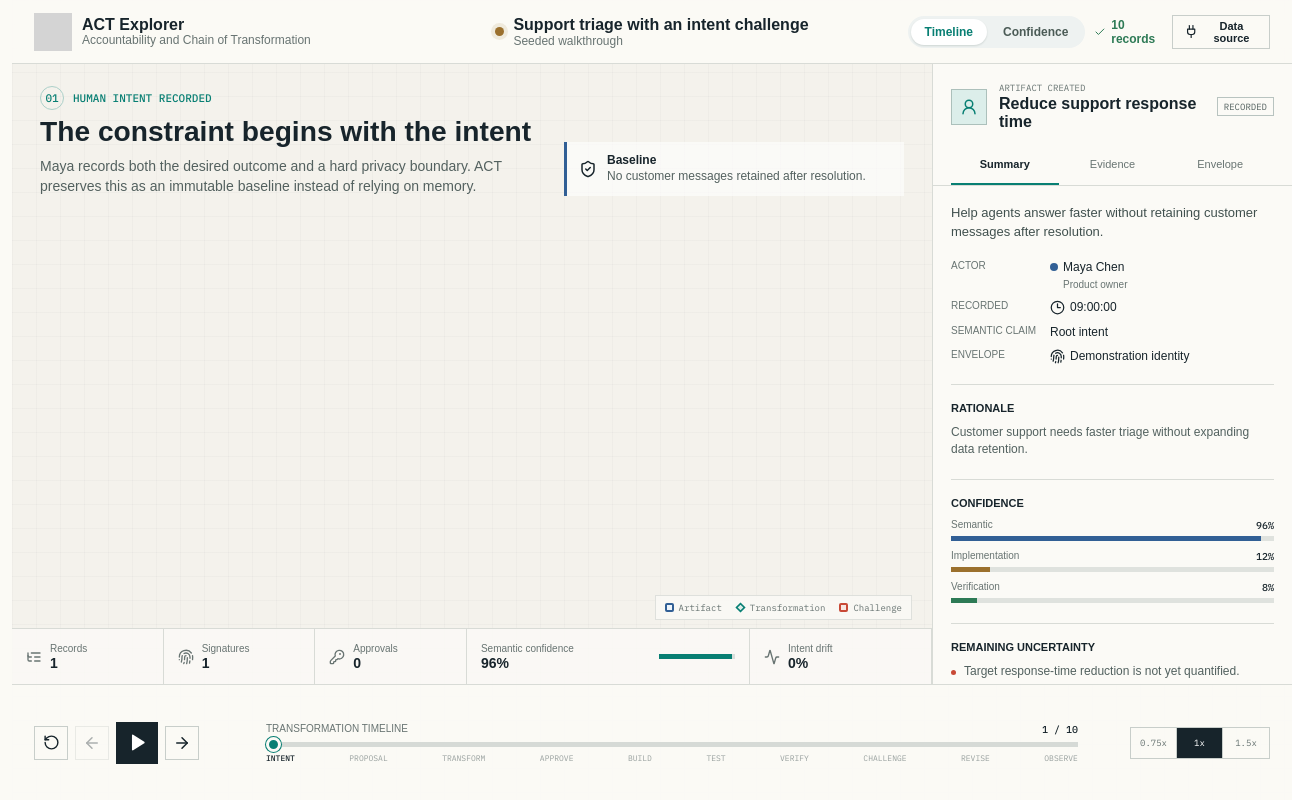
it: ACT Explorer demonstration › switches to the confidence heatmap and selects a record from it
Click the button "Confidence" at (1036, 32), box [989,18,1082,44]
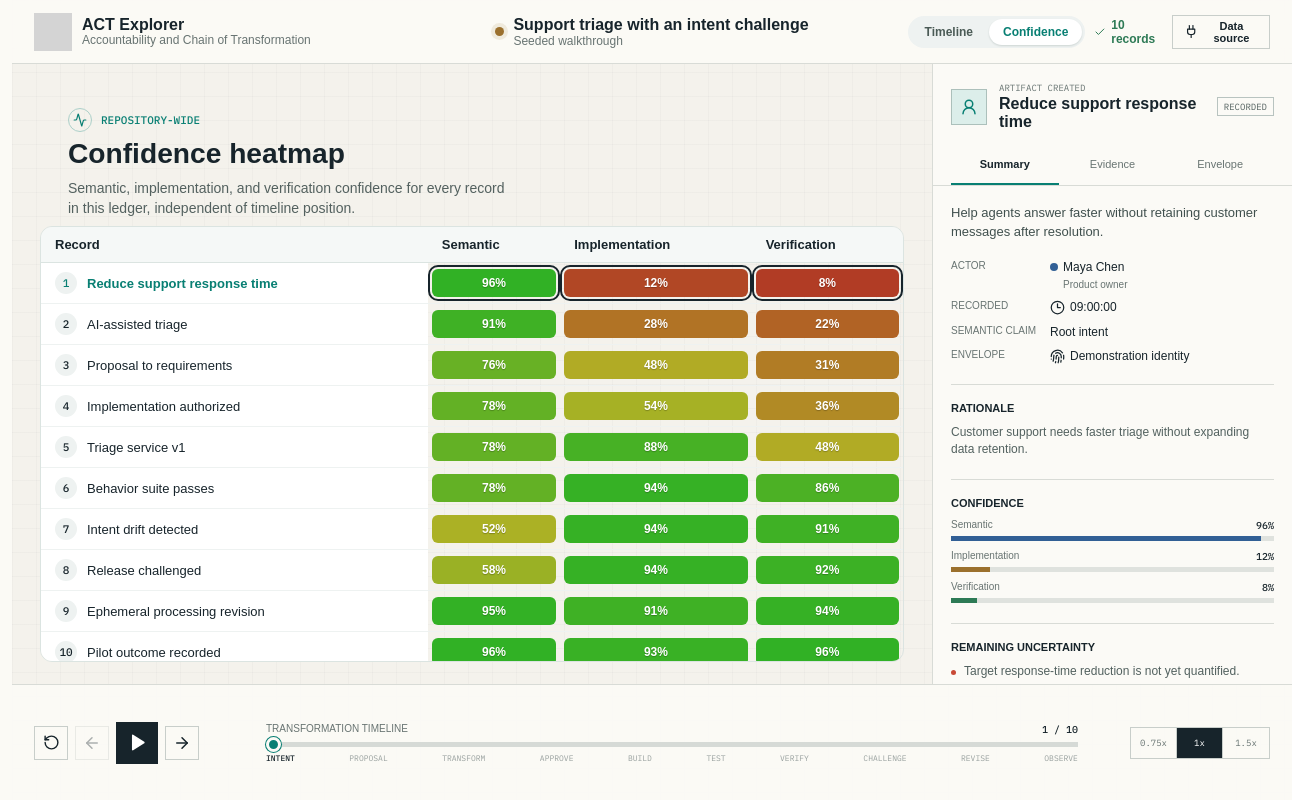
Expected: the heading "Confidence heatmap" is shown, [68,138,345,169]
Expected: the picture with test id "protocol-graph" is gone
Click the button with aria-label "Select record: AI-assisted triage" at (137, 324), box [41,304,428,344]
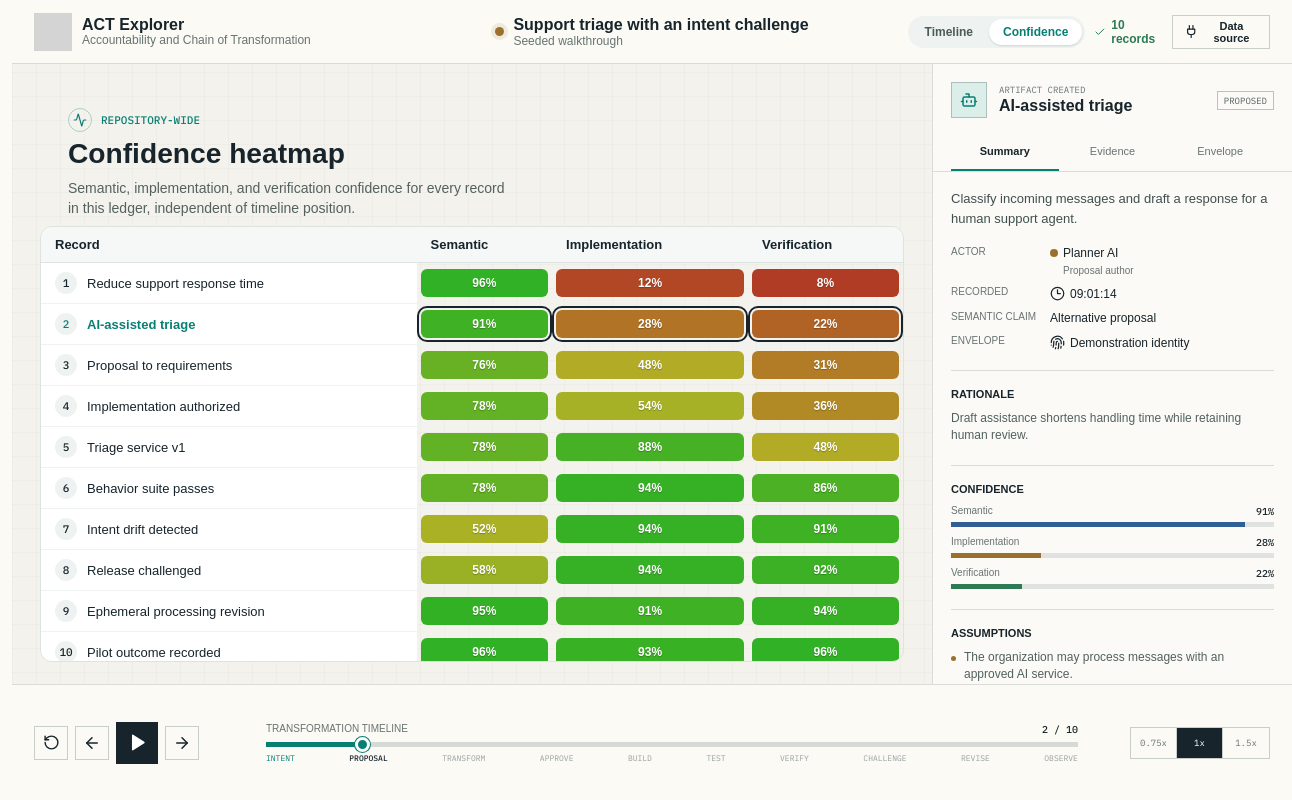
Expected: the heading "AI-assisted triage" is shown, [999,97,1132,114]
Click the button "Timeline" at (949, 32), box [911,18,987,44]
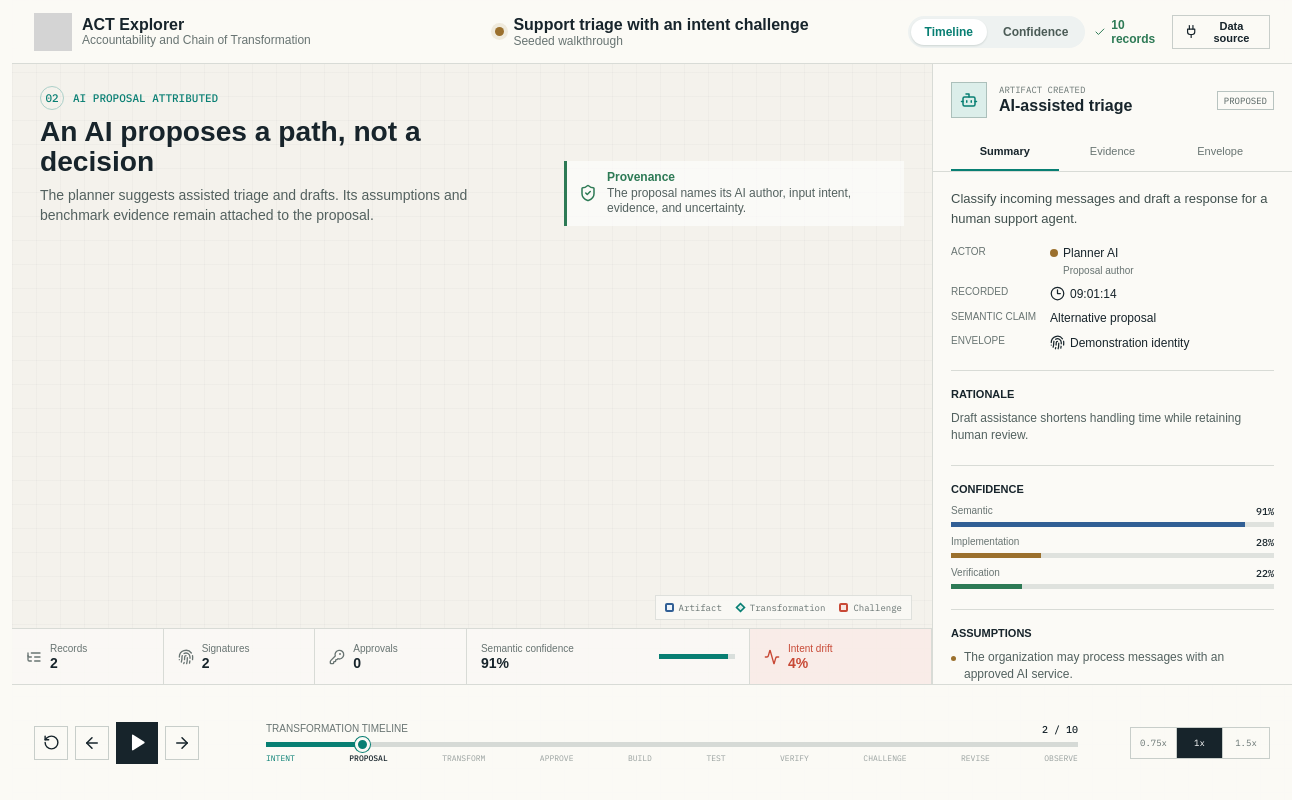
Expected: the heading "An AI proposes a path, not a decision" is shown, [40,116,421,177]
